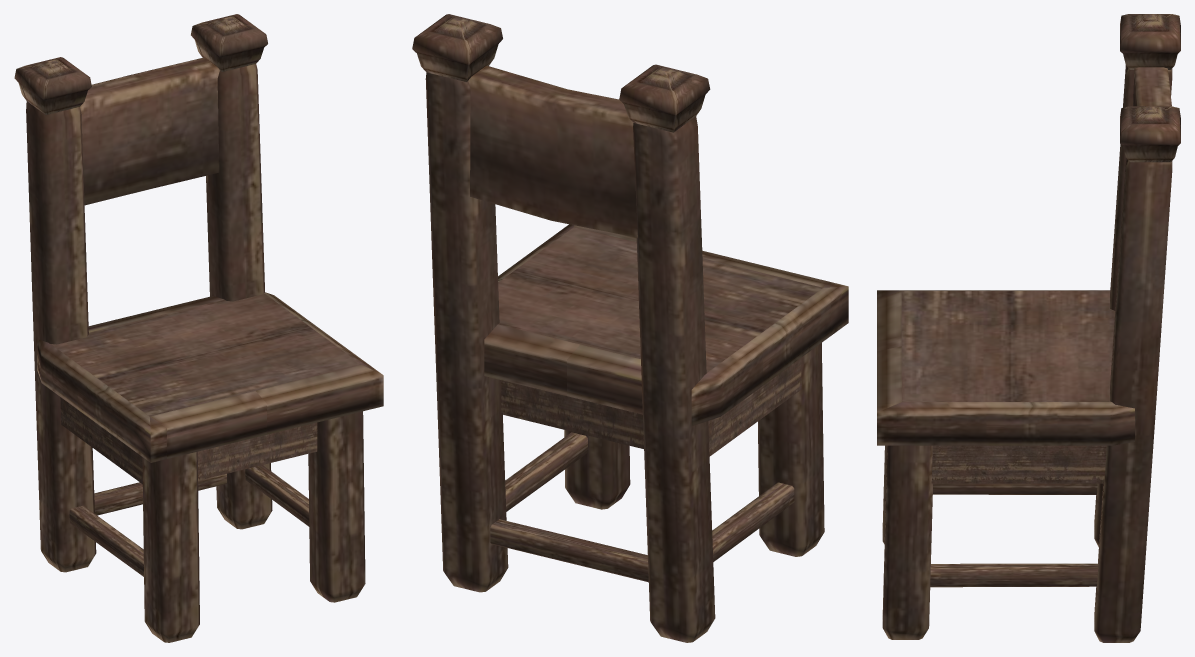
File: chair.glb
The picture shows the model from 3 angles, left to right: view 1: azimuth 30°, elevation 25°; view 2: azimuth 150°, elevation 25°; view 3: azimuth 270°, elevation 25°; orthographic projection. The views are drawn at different scales.
Visible parts, largest first — view 1: ensemble_set_dungeon_chair_small; view 2: ensemble_set_dungeon_chair_small; view 3: ensemble_set_dungeon_chair_small.
Part boxes in pixels (left/top/right/bottom): ensemble_set_dungeon_chair_small: left=14, top=14, right=383, bottom=642; ensemble_set_dungeon_chair_small: left=412, top=14, right=848, bottom=642; ensemble_set_dungeon_chair_small: left=877, top=14, right=1180, bottom=642.
Size of the model in its own units: 0.5381 by 1.08 by 0.566.
Materials: 1 (1 with a texture image).
